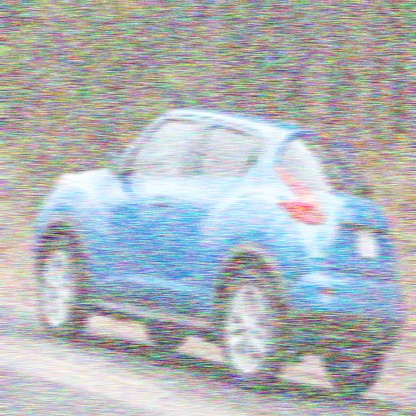Vehicle: (32, 108, 407, 397)
